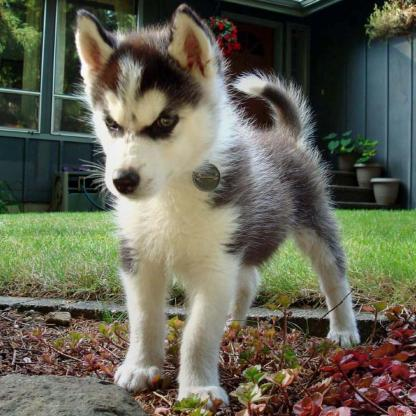husky: (72, 5, 362, 405)
